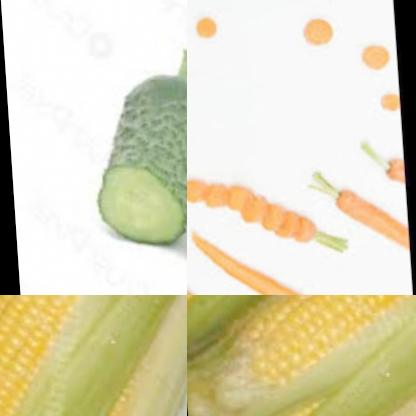carrot: (187, 156, 320, 261), (187, 220, 331, 295), (313, 186, 405, 258), (187, 232, 230, 295), (293, 15, 343, 54), (357, 40, 394, 81), (189, 14, 227, 47), (375, 90, 398, 122), (378, 159, 401, 181)
corn: (187, 295, 416, 416), (227, 295, 416, 416), (0, 295, 187, 416), (0, 295, 171, 416), (187, 295, 416, 354), (0, 295, 83, 416)
cucumber: (76, 54, 187, 255)
